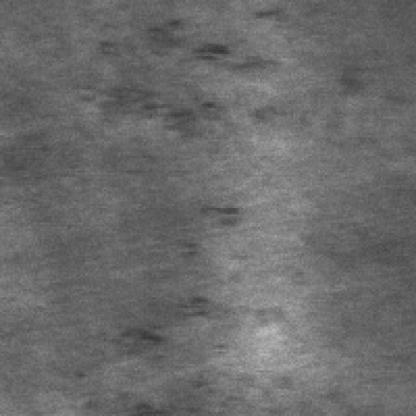rolled-in_scale: (126, 204, 250, 393), (104, 31, 289, 139)
